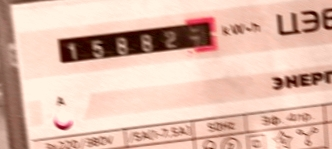1: (65, 40, 79, 60)
2: (163, 29, 177, 49)
5: (90, 38, 104, 59)
7: (189, 34, 201, 49)
8: (114, 34, 128, 57), (139, 32, 153, 54)
screen: (48, 10, 227, 73)
